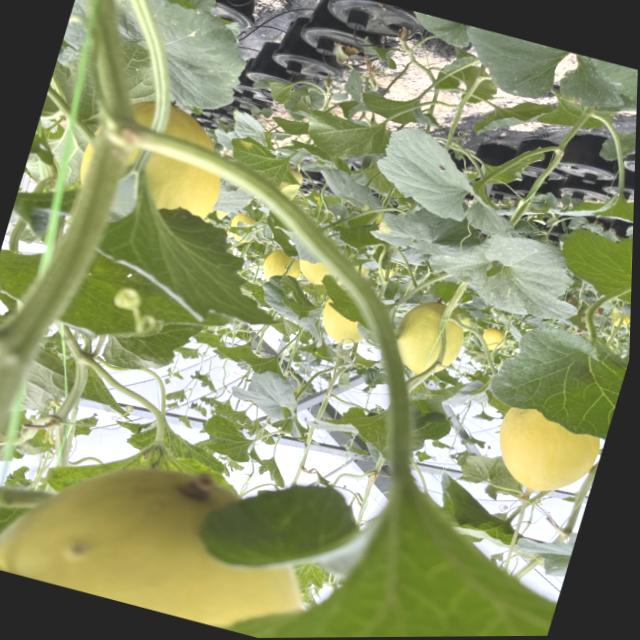downy mildew: (479, 310, 631, 442), (451, 23, 639, 127), (423, 213, 580, 327), (253, 268, 335, 335), (447, 443, 523, 504)
healthy: (363, 120, 530, 236), (548, 219, 633, 321), (291, 104, 394, 172), (308, 394, 390, 454), (573, 166, 635, 235), (197, 410, 263, 466), (237, 373, 299, 423)
powdery mildew: (409, 11, 490, 51)
